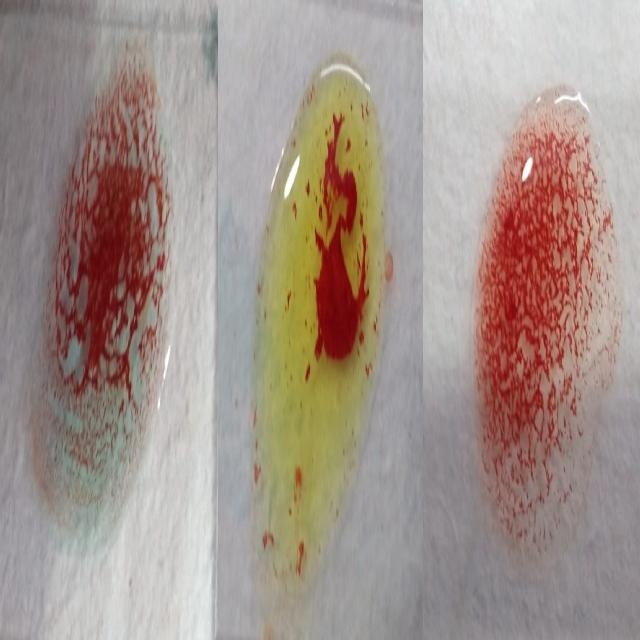A: (27, 44, 175, 544)
B: (251, 69, 387, 590)
D: (478, 90, 620, 569)
